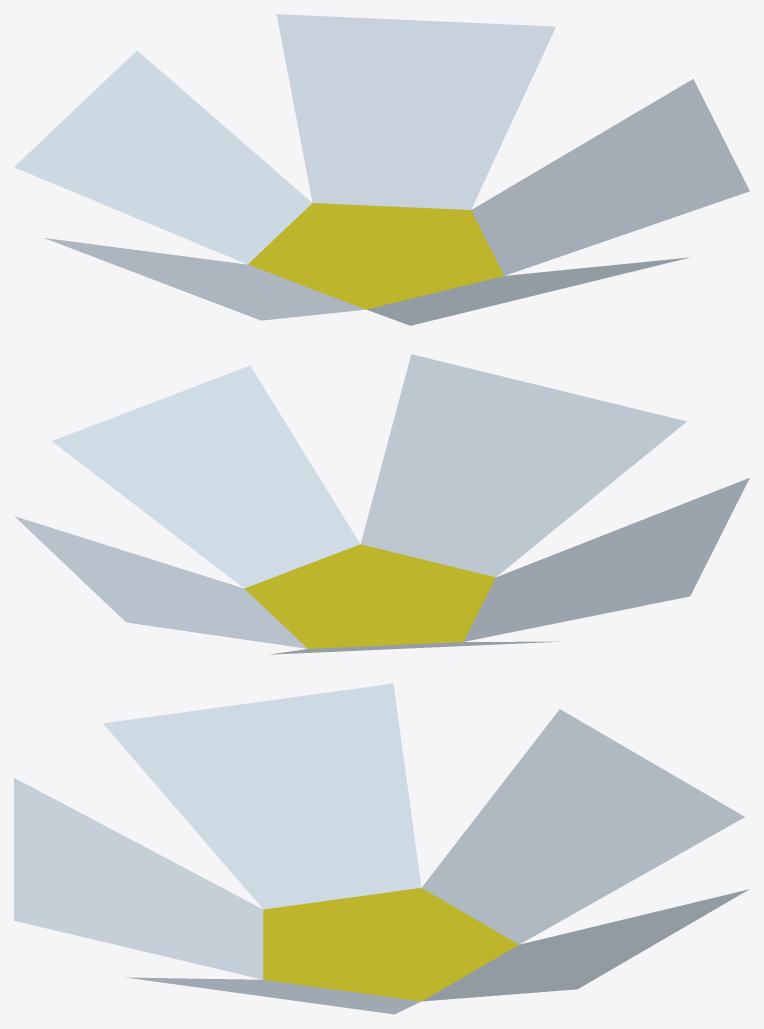
The model's file is Flower_1.fbx.
3 views of the same model, one above another, from view 1: azimuth 30°, elevation 25°; view 2: azimuth 150°, elevation 25°; view 3: azimuth 270°, elevation 25° (orthographic). The views are drawn at different scales.
Parts seen in each view (by area): view 1: Flower_1; view 2: Flower_1; view 3: Flower_1.
Boxes of the visible parts, x1,y1,x2,y2 form: Flower_1: (14, 14, 749, 325); Flower_1: (14, 354, 749, 654); Flower_1: (14, 683, 749, 1014).
Bounding box in the file's own units: 30.45 × 4.01 × 28.62.
